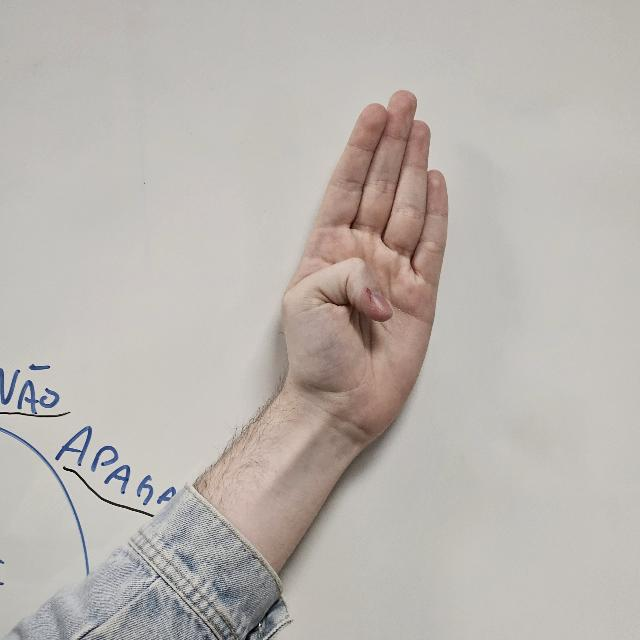Baixo: (276, 79, 446, 462)
